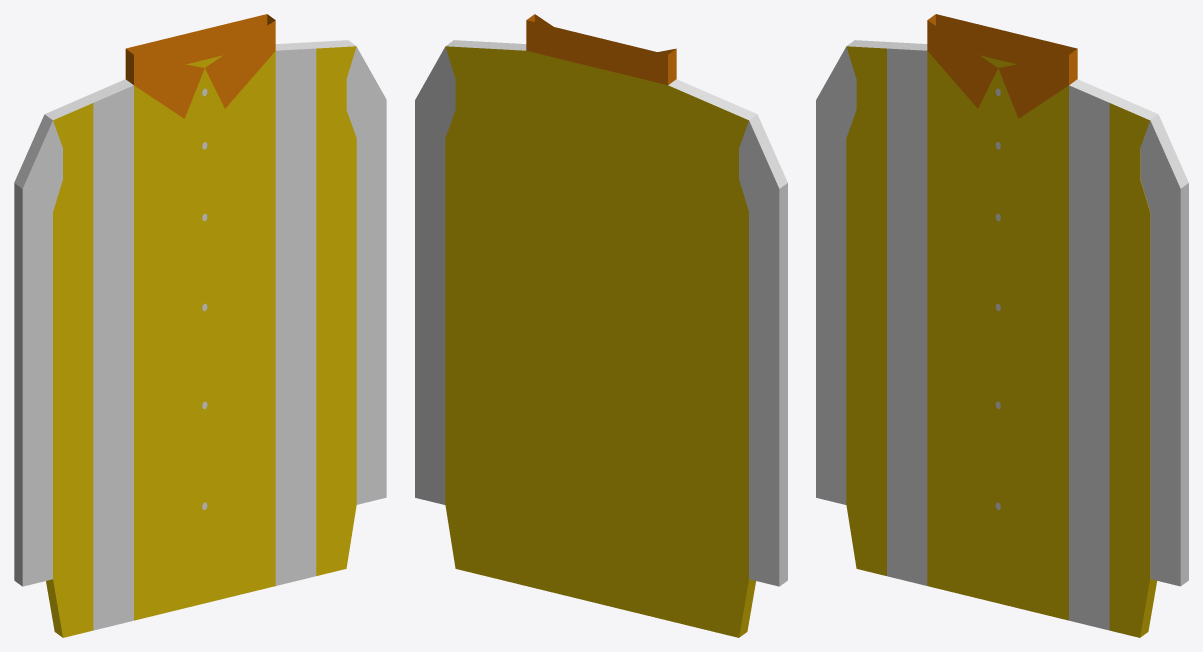
The model's file is shirt-yellow.dae.
The picture shows the model from 3 angles, left to right: view 1: azimuth 30°, elevation 25°; view 2: azimuth 150°, elevation 25°; view 3: azimuth 330°, elevation 25°; orthographic projection.
Parts seen in each view (by area): view 1: group_1_002, group_1_004, group_1_008, group_1_006, group_1_009, group_1_003, group_1_005, group_1_014; view 2: group_1_002, group_1_004, group_1_007, group_1_006, group_1_015, group_1_008, group_1_005; view 3: group_1_002, group_1_008, group_1_004, group_1_006, group_1_003, group_1_009, group_1_014, group_1_005.
Boxes of the visible parts, x1,y1,x2,y2 form: group_1_002: (46, 46, 356, 637); group_1_004: (14, 79, 133, 630); group_1_008: (275, 40, 386, 585); group_1_006: (126, 14, 267, 64); group_1_009: (125, 49, 204, 118); group_1_003: (205, 14, 275, 108); group_1_005: (14, 518, 52, 586); group_1_014: (356, 436, 386, 504); group_1_002: (445, 46, 755, 637); group_1_004: (668, 79, 787, 525); group_1_007: (415, 46, 455, 504); group_1_006: (526, 20, 667, 85); group_1_015: (749, 518, 779, 586); group_1_008: (446, 40, 526, 50); group_1_005: (779, 519, 787, 586); group_1_002: (846, 46, 1156, 637); group_1_008: (1069, 79, 1188, 630); group_1_004: (816, 40, 927, 585); group_1_006: (936, 14, 1077, 64); group_1_003: (998, 49, 1077, 118); group_1_009: (927, 14, 997, 108); group_1_014: (1150, 518, 1188, 586); group_1_005: (816, 436, 846, 504).
Bounding box in the file's own units: 0.6333 × 0.0254 × 0.9398.
